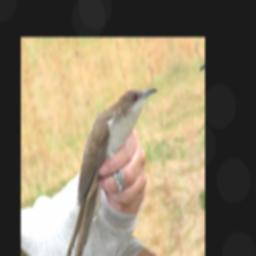Cuckoo: (35, 77, 184, 256)
